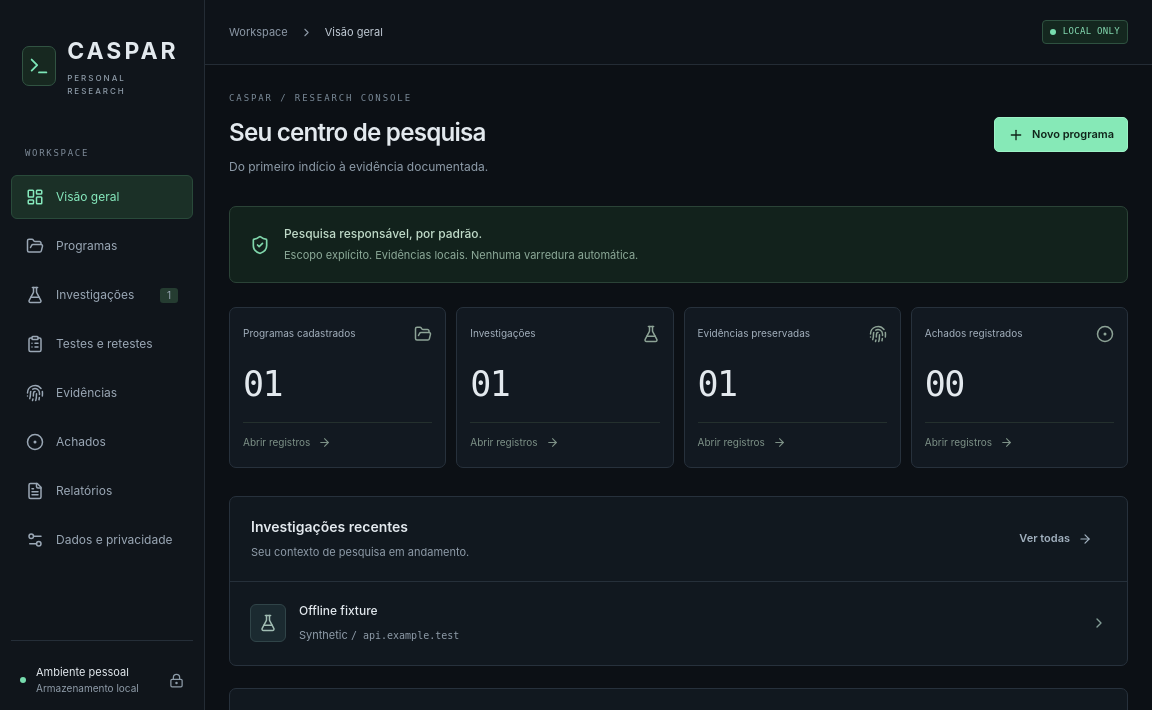
Personal workspace › keeps AI transmission disabled until the exact preview is approved
Expected: the text "Offline fixture" is shown, left=299, top=603, right=378, bottom=618
Click the button "Evidências" at (102, 393), box left=11, top=371, right=193, bottom=415
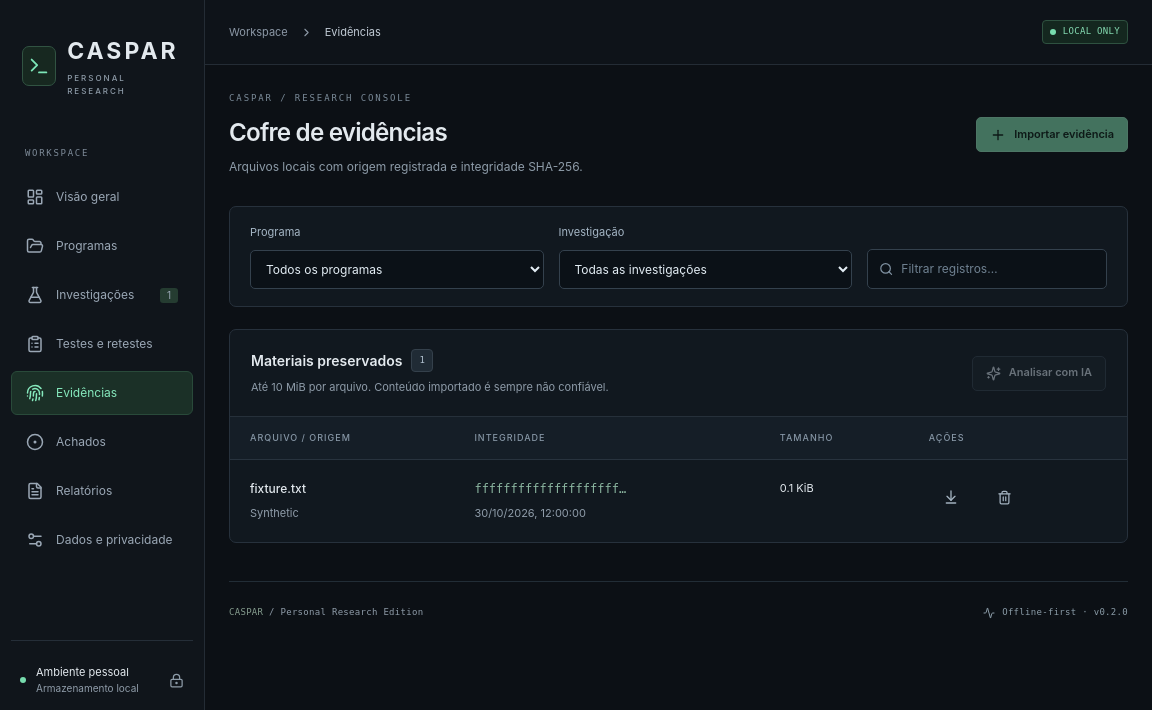
Select "Offline fixture" in the dropdown labelled "Investigação" at (705, 269), box left=558, top=250, right=852, bottom=289
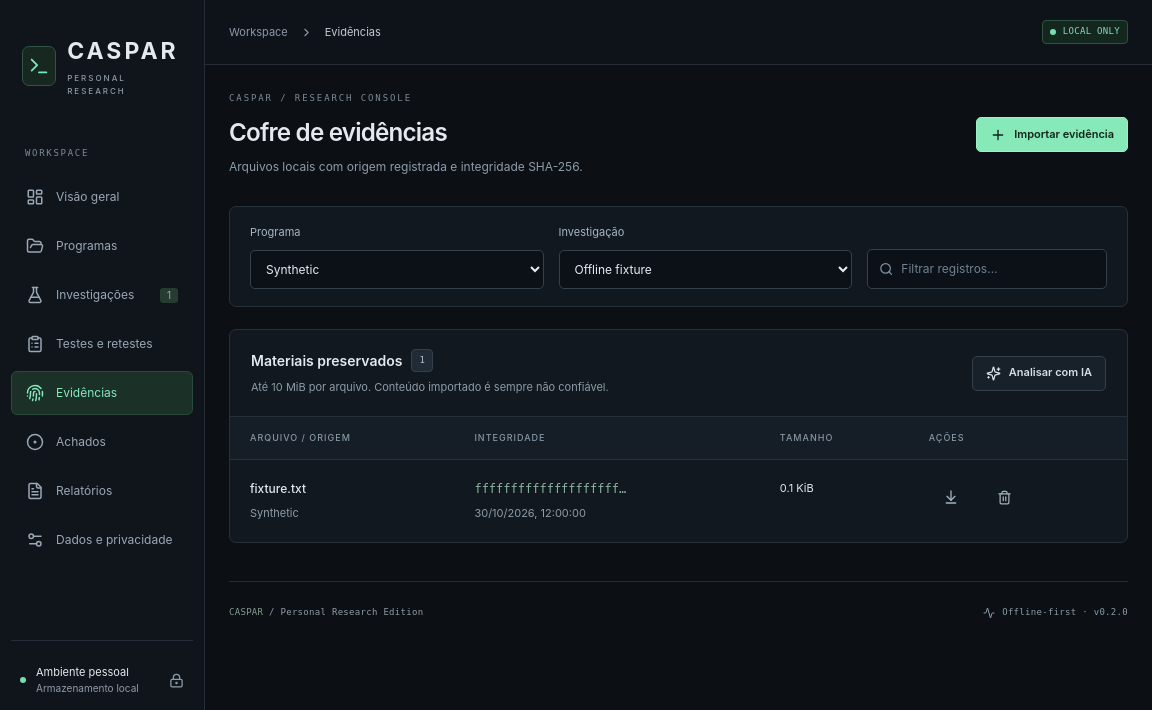
Click the button "Analisar com IA" at (1039, 373), box left=972, top=356, right=1106, bottom=390
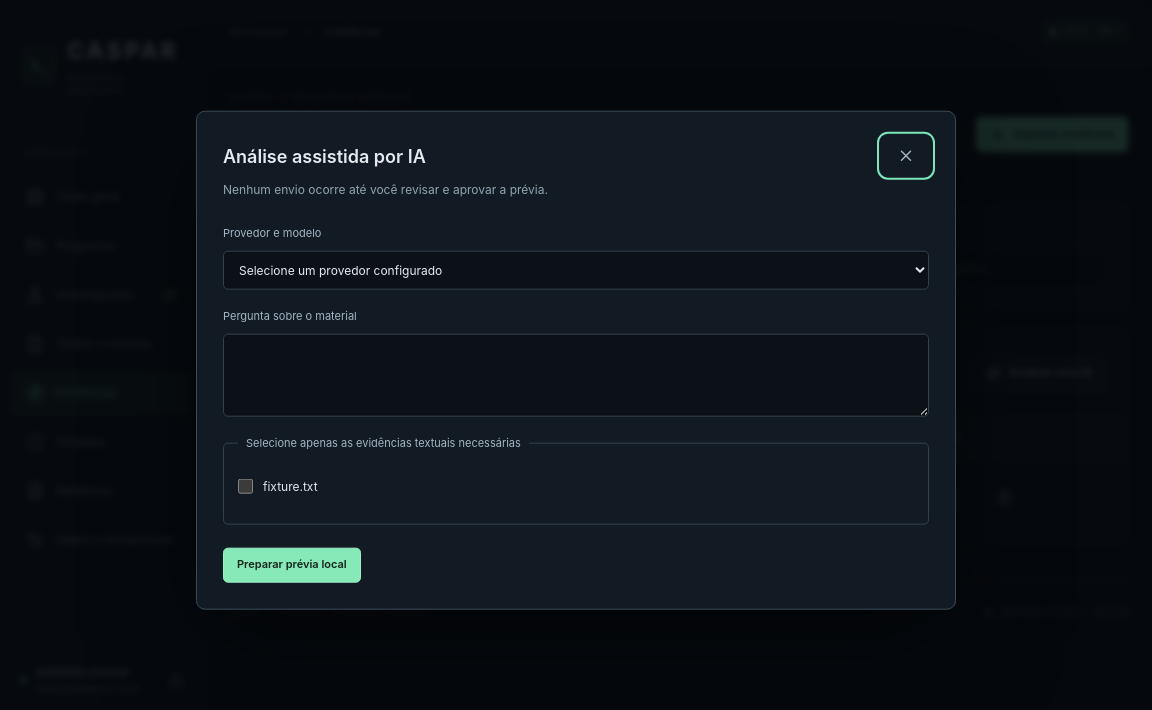
Select "OpenAI · test" in the dropdown labelled "Provedor e modelo" at (576, 270), box left=223, top=251, right=929, bottom=290
Type "Summarize fixture" into the text box labelled "Pergunta sobre o material" at (576, 375), box left=223, top=333, right=929, bottom=416
Click the checkbox labelled "fixture.txt" at (246, 486), box left=238, top=479, right=253, bottom=494
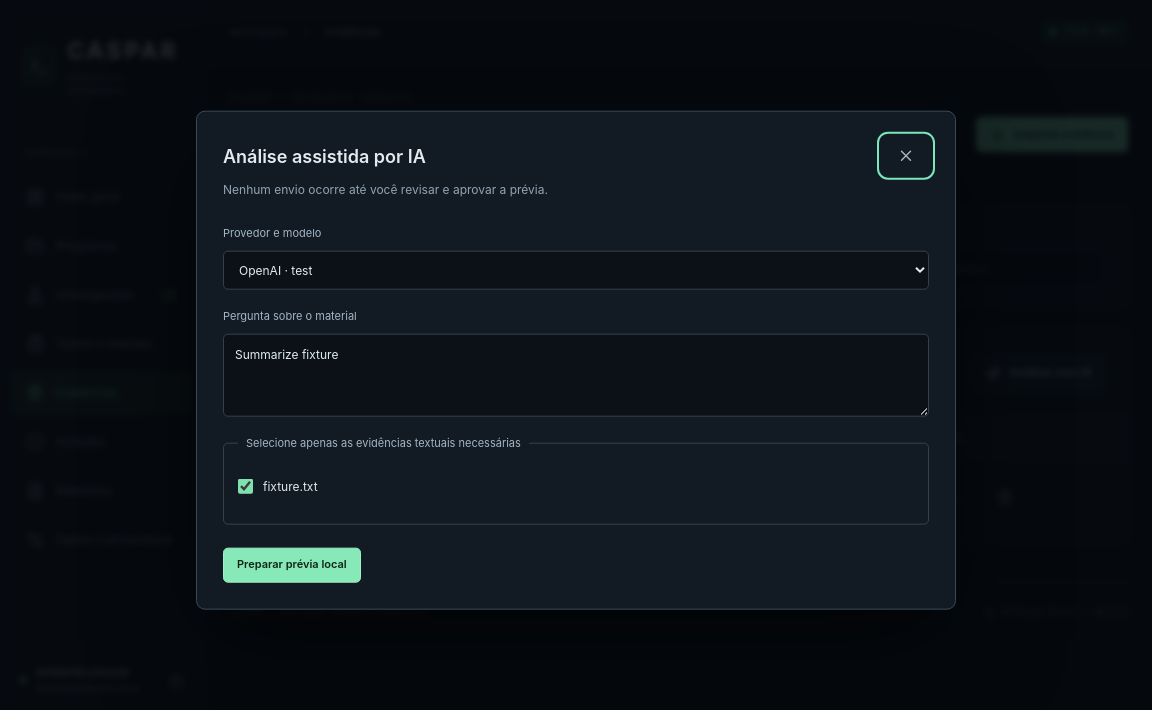
Click the button "Preparar prévia local" at (292, 565), box left=223, top=547, right=361, bottom=582
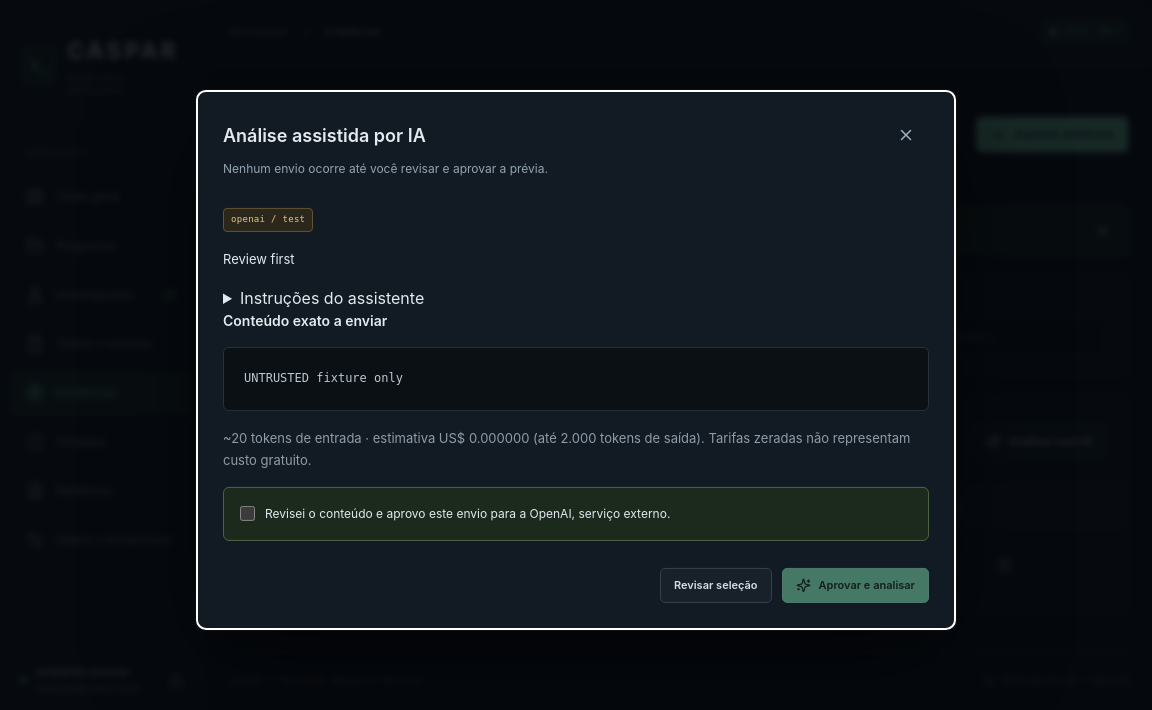
Now the button "Aprovar e analisar" is disabled, box left=782, top=568, right=929, bottom=603
Click the checkbox labelled "Revisei o conteúdo" at (248, 513), box left=240, top=506, right=255, bottom=521
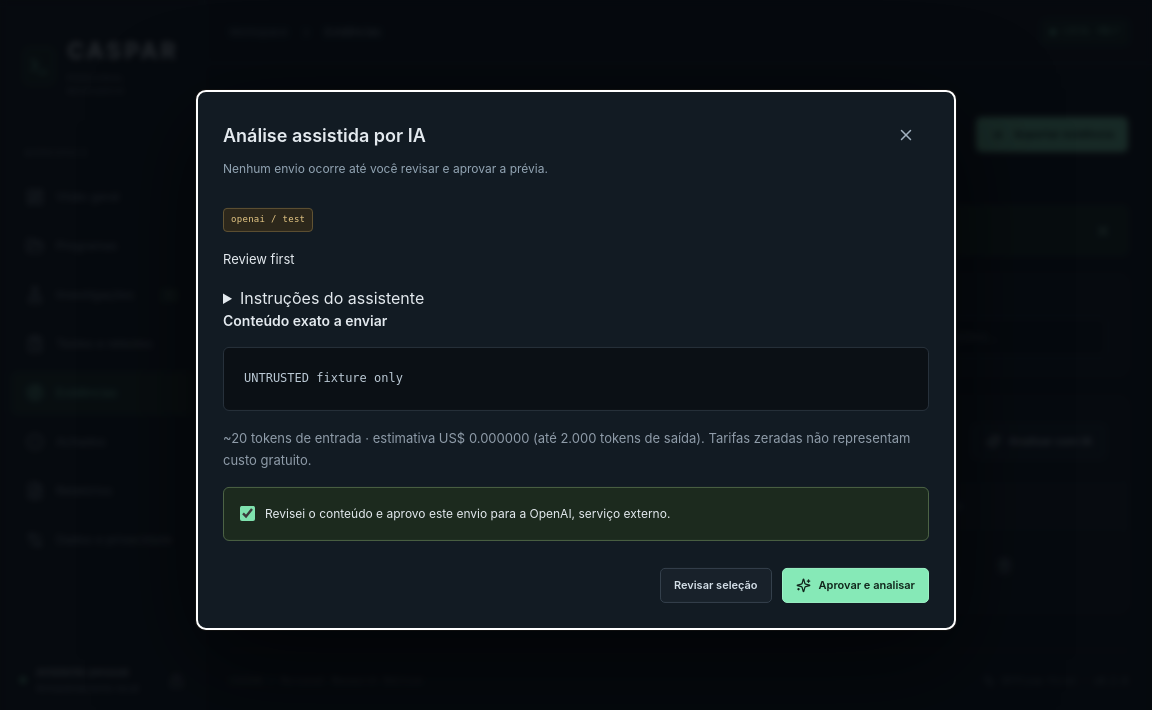
Now the text "UNTRUSTED fixture only" is shown, box left=223, top=347, right=929, bottom=410
Now the button "Aprovar e analisar" is enabled, box left=782, top=568, right=929, bottom=603
